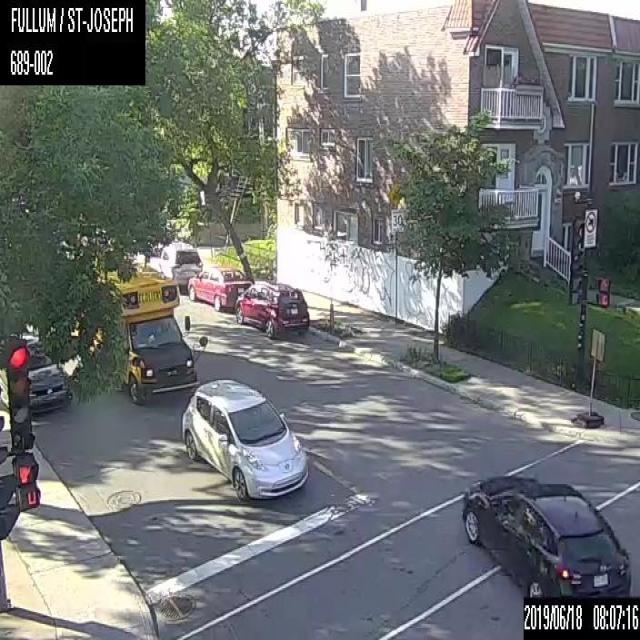bus: (66, 244, 208, 405)
construction: (570, 327, 605, 427)
vehicle: (461, 472, 633, 596), (181, 378, 309, 502), (0, 333, 73, 416), (234, 280, 308, 338), (134, 239, 202, 294), (186, 266, 253, 312)
